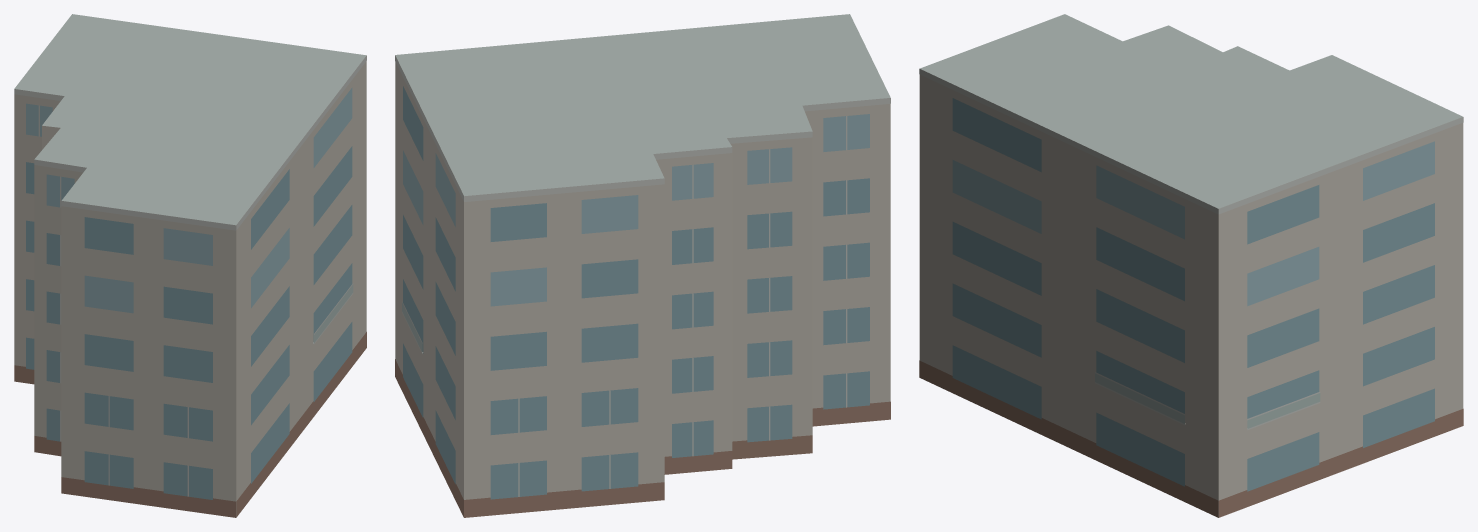
File: survey-upis-32990175.glb
3 renders of one model, left to right at view 1: azimuth 30°, elevation 25°; view 2: azimuth 150°, elevation 25°; view 3: azimuth 270°, elevation 25°, orthographic. The views are drawn at different scales.
Visible parts, largest first — view 1: survey-upis-32990175.tmp; view 2: survey-upis-32990175.tmp; view 3: survey-upis-32990175.tmp.
Boxes of the visible parts, left/top/right/bottom form: survey-upis-32990175.tmp: left=14, top=14, right=366, bottom=517; survey-upis-32990175.tmp: left=395, top=14, right=890, bottom=517; survey-upis-32990175.tmp: left=919, top=14, right=1463, bottom=517.
Size of the model in its own units: 17.86 by 13.2 by 21.06.
